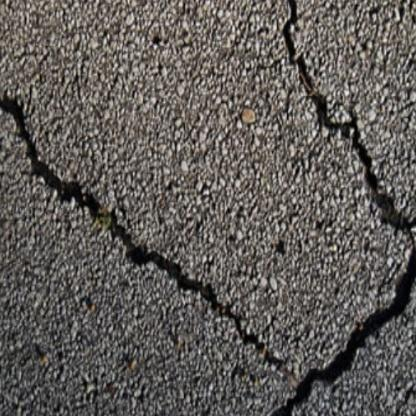Cracks: (0, 71, 287, 373), (260, 0, 416, 416)
